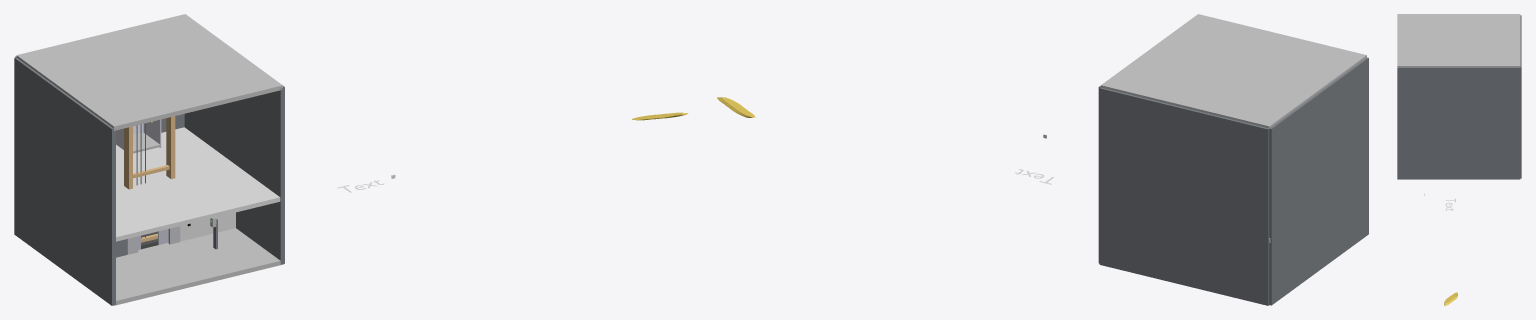
The model's file is Lift demo 5.fbx.
The picture shows the model from 3 angles, left to right: view 1: azimuth 30°, elevation 25°; view 2: azimuth 150°, elevation 25°; view 3: azimuth 270°, elevation 25°; orthographic projection. The views are drawn at different scales.
Visible parts, largest first — view 1: Wall_Left, Room_Ceiling.002, Room_Ceiling, Wall_Right, Room_Floor.002, Room_Wall_Back, Rail_Right, Rail_Left; view 2: Wall_Back, Wall_Left, Room_Ceiling.002; view 3: Wall_Right, Room_Ceiling.002, Wall_Back, Room_Floor.002.
Boxes of the visible parts, x1,y1,x2,y2 form: Wall_Left: (14, 57, 115, 305); Room_Ceiling.002: (16, 14, 282, 130); Room_Ceiling: (116, 127, 280, 241); Wall_Right: (184, 86, 284, 264); Room_Floor.002: (115, 228, 283, 305); Room_Wall_Back: (180, 212, 235, 241); Rail_Right: (166, 116, 175, 179); Rail_Left: (124, 126, 132, 189); Wall_Back: (1099, 87, 1269, 305); Wall_Left: (1269, 57, 1368, 305); Room_Ceiling.002: (1101, 14, 1366, 128); Wall_Right: (1397, 67, 1520, 179); Room_Ceiling.002: (1397, 14, 1520, 67); Wall_Back: (1520, 15, 1521, 178); Room_Floor.002: (1397, 179, 1519, 179).
Size of the model in its own units: 29.12 by 8.6 by 8.1.
